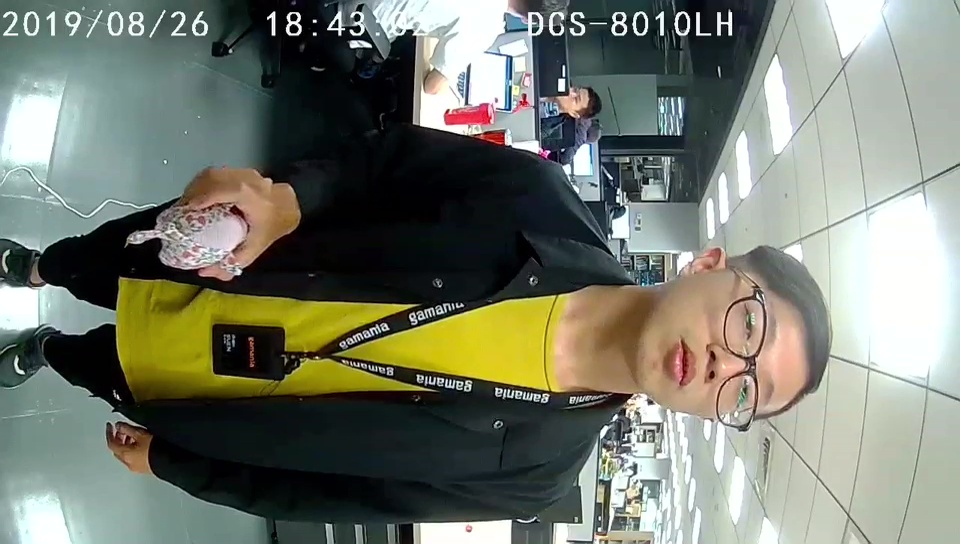pig: (155, 198, 247, 279)
